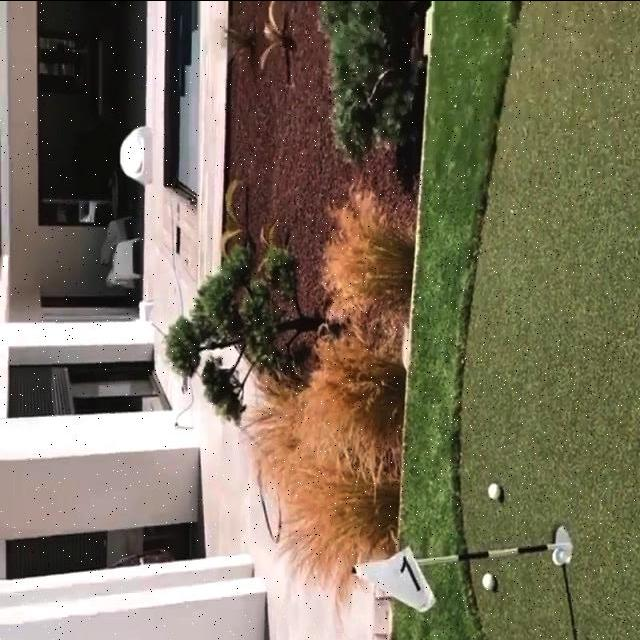golf ball: (482, 572, 496, 589), (488, 481, 500, 499)
